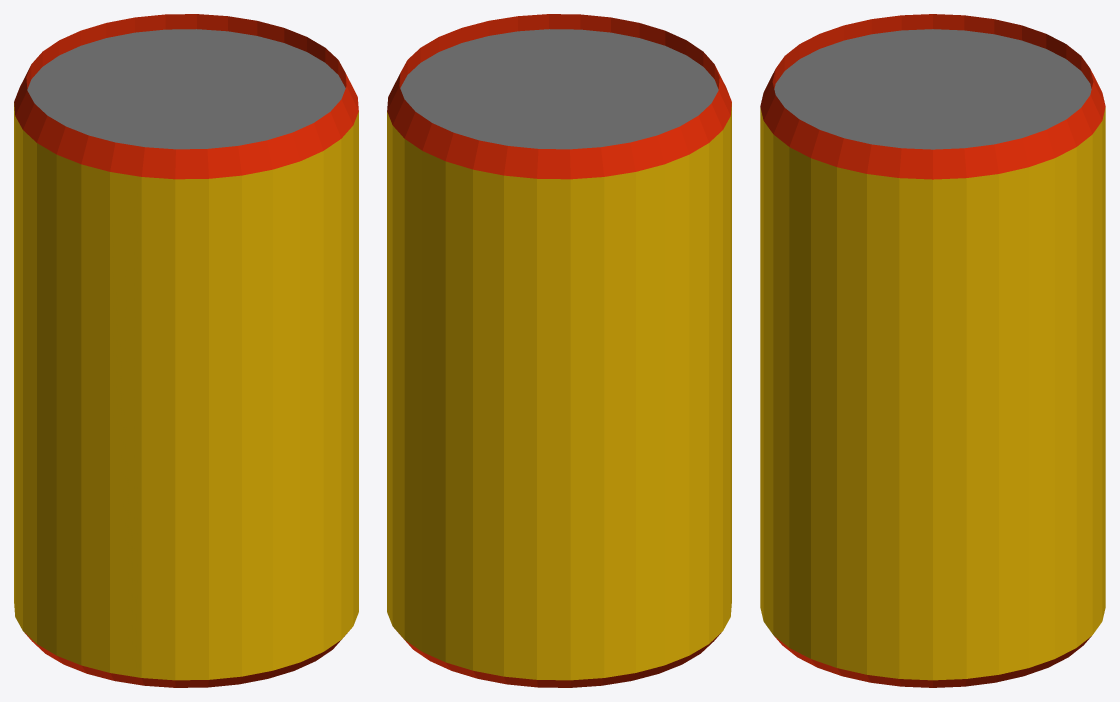
The model's file is sodaCan.fbx.
The picture shows the model from 3 angles, left to right: view 1: azimuth 30°, elevation 25°; view 2: azimuth 150°, elevation 25°; view 3: azimuth 270°, elevation 25°; orthographic projection.
Visible parts, largest first — view 1: sodaCan:Mesh; view 2: sodaCan:Mesh; view 3: sodaCan:Mesh.
Boxes of the visible parts, <box> form: sodaCan:Mesh: <box>14,14,358,687</box>; sodaCan:Mesh: <box>387,14,731,687</box>; sodaCan:Mesh: <box>760,14,1105,687</box>.
Size of the model in its own units: 2 by 3.43 by 2.
